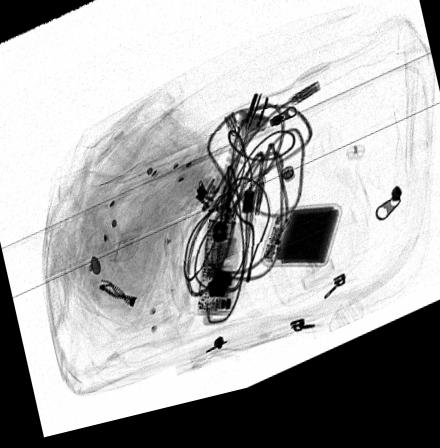Powerbank: (258, 219, 341, 282)
